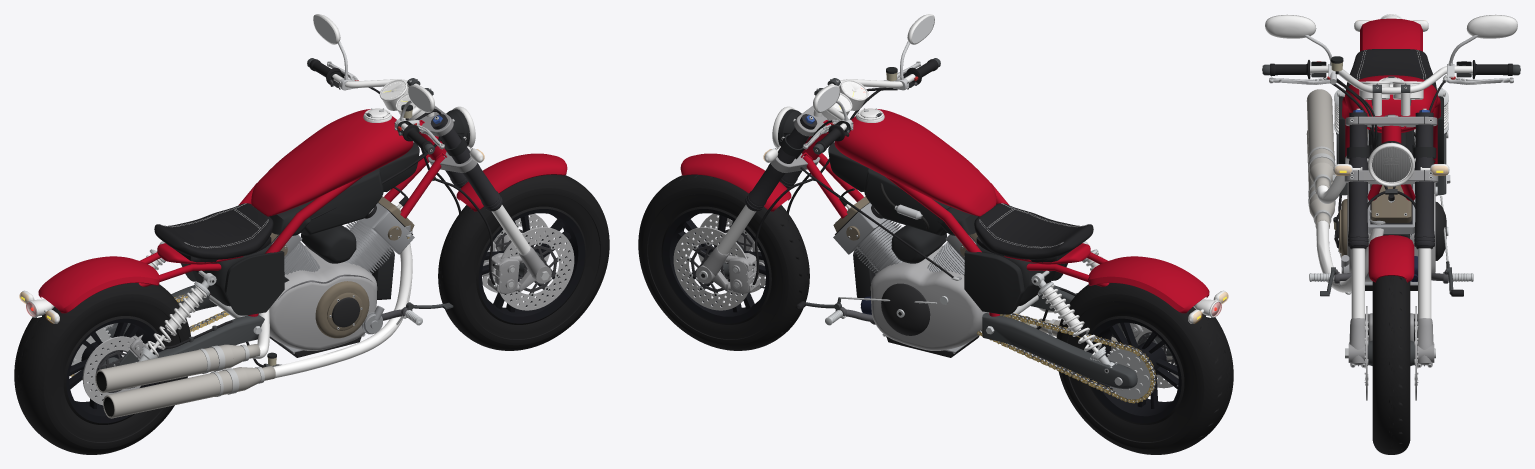
File: corvano_cruiser.glb
3 renders of one model, left to right at view 1: azimuth 30°, elevation 25°; view 2: azimuth 150°, elevation 25°; view 3: azimuth 270°, elevation 25°, orthographic. The views are drawn at different scales.
Visible parts, largest first — view 1: corvano_cruiser; view 2: corvano_cruiser; view 3: corvano_cruiser.
Part boxes in pixels (x1,y1,x2,y2): corvano_cruiser: (14,14,609,454); corvano_cruiser: (638,14,1233,454); corvano_cruiser: (1262,14,1520,454).
Bounding box in the file's own units: 2.29 × 1.23 × 0.8198.
